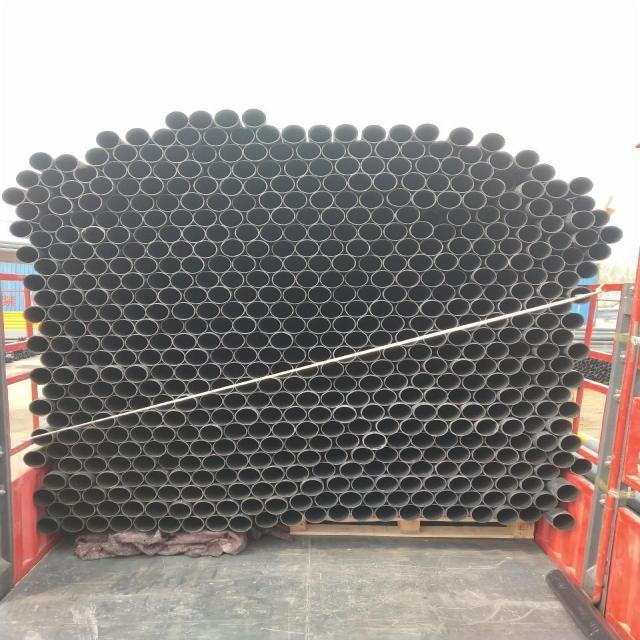pipe: (176, 158, 202, 178), (469, 160, 494, 180), (400, 140, 425, 160), (414, 122, 439, 142), (333, 122, 358, 142), (250, 480, 274, 500), (258, 222, 282, 242), (234, 222, 258, 242), (218, 208, 242, 228), (426, 172, 450, 192), (102, 160, 126, 180), (208, 316, 234, 334), (156, 286, 182, 304), (282, 254, 308, 272), (394, 238, 420, 256), (270, 207, 296, 225), (544, 180, 570, 198), (488, 150, 514, 168), (230, 160, 256, 178), (217, 144, 243, 162), (242, 142, 268, 160), (374, 140, 400, 158), (280, 124, 306, 142), (202, 127, 228, 145), (569, 285, 592, 305), (283, 222, 306, 242), (322, 172, 345, 192), (207, 160, 230, 180), (322, 141, 346, 160), (256, 125, 280, 144), (240, 109, 264, 128), (509, 400, 534, 418), (387, 402, 412, 420), (332, 405, 357, 423), (263, 497, 288, 515), (239, 497, 264, 515), (106, 486, 131, 504), (333, 374, 358, 392), (423, 357, 448, 375), (409, 314, 434, 332), (306, 316, 331, 334), (469, 298, 494, 316), (516, 224, 541, 242), (395, 205, 420, 223), (358, 189, 383, 207), (372, 172, 397, 190), (163, 144, 188, 162), (296, 142, 321, 160), (347, 140, 372, 158), (306, 124, 331, 142), (187, 110, 212, 128), (200, 454, 226, 471), (344, 269, 370, 286), (330, 254, 356, 271), (530, 163, 556, 180), (88, 177, 114, 194), (528, 240, 550, 260), (500, 190, 522, 210), (296, 206, 319, 225), (476, 204, 499, 223), (1, 187, 24, 206), (204, 514, 228, 532), (518, 504, 542, 522), (534, 493, 558, 511), (556, 484, 580, 502), (398, 446, 422, 464), (508, 433, 532, 451), (434, 430, 458, 448), (294, 420, 318, 438), (376, 417, 400, 435), (448, 418, 472, 436), (500, 418, 524, 436), (549, 418, 573, 436), (308, 406, 332, 424), (282, 405, 306, 423), (120, 500, 144, 518), (96, 500, 120, 518), (56, 487, 80, 505), (68, 472, 92, 490), (260, 435, 284, 453), (296, 390, 320, 408), (548, 386, 572, 404), (536, 369, 560, 387), (282, 375, 306, 393), (258, 376, 282, 394), (122, 364, 146, 382), (222, 361, 246, 379), (294, 360, 318, 378), (370, 358, 394, 376), (396, 358, 420, 376), (498, 357, 522, 375), (548, 355, 572, 373), (258, 346, 282, 364), (40, 350, 64, 368), (74, 334, 98, 352), (100, 334, 124, 352), (124, 334, 148, 352), (148, 332, 172, 350), (221, 330, 245, 348), (448, 328, 472, 346), (498, 326, 522, 344), (134, 318, 158, 336), (72, 304, 96, 322), (144, 302, 168, 320), (294, 300, 318, 318), (110, 288, 134, 306), (97, 272, 121, 290), (194, 270, 218, 288), (294, 269, 318, 287), (370, 270, 394, 288), (396, 269, 420, 287), (494, 268, 518, 286), (524, 266, 548, 284), (556, 270, 580, 288), (408, 253, 432, 271), (208, 254, 232, 272), (133, 256, 157, 274), (122, 240, 146, 258), (192, 240, 216, 258), (244, 239, 268, 257), (270, 239, 294, 257), (320, 238, 344, 256), (448, 237, 472, 255), (498, 237, 522, 255), (574, 228, 598, 246), (548, 232, 572, 250), (460, 222, 484, 240), (383, 222, 407, 240), (358, 222, 382, 240), (181, 224, 205, 242), (157, 225, 181, 243), (106, 225, 130, 243), (80, 225, 104, 243), (54, 225, 78, 243), (8, 220, 32, 238), (119, 210, 143, 228), (540, 214, 564, 232), (572, 210, 596, 228), (550, 198, 574, 216), (521, 180, 545, 198), (310, 191, 334, 209), (258, 191, 282, 209), (77, 193, 101, 211), (47, 196, 71, 214), (14, 202, 38, 220), (14, 170, 38, 188), (54, 154, 78, 172), (60, 179, 84, 197), (138, 176, 162, 194), (270, 175, 294, 193), (296, 175, 320, 193), (480, 132, 504, 150), (416, 155, 440, 173), (388, 156, 412, 174), (360, 156, 384, 174), (308, 158, 332, 176), (256, 160, 280, 178), (152, 161, 176, 179), (85, 147, 109, 165), (138, 144, 162, 162), (192, 145, 216, 163), (268, 142, 292, 160), (428, 140, 452, 158), (388, 124, 412, 142), (230, 126, 254, 144), (176, 126, 200, 144), (152, 127, 176, 145), (214, 109, 238, 127), (434, 489, 459, 506), (214, 500, 239, 517), (80, 427, 105, 444), (420, 300, 445, 317), (509, 282, 534, 299), (388, 187, 410, 206), (26, 184, 48, 203), (372, 388, 398, 404), (112, 350, 138, 366), (318, 270, 344, 286), (85, 515, 108, 533), (109, 514, 132, 532), (133, 514, 156, 532), (280, 508, 303, 526), (303, 506, 326, 524), (399, 503, 422, 521), (446, 504, 469, 522), (338, 490, 361, 508), (524, 447, 547, 465), (484, 430, 507, 448), (400, 418, 423, 436), (425, 418, 448, 436), (475, 418, 498, 436), (535, 400, 558, 418), (192, 500, 215, 518), (157, 484, 180, 502), (180, 484, 203, 502), (58, 456, 81, 474), (132, 454, 155, 472), (213, 438, 236, 456), (359, 374, 382, 392), (235, 376, 258, 394), (42, 382, 65, 400), (320, 360, 343, 378), (161, 348, 184, 366), (138, 348, 161, 366), (172, 332, 195, 350), (320, 330, 343, 348), (369, 330, 392, 348), (511, 311, 534, 329), (269, 300, 292, 318), (483, 283, 506, 301), (408, 284, 431, 302), (383, 284, 406, 302), (357, 284, 380, 302), (333, 284, 356, 302), (85, 288, 108, 306), (60, 289, 83, 307), (120, 272, 143, 290), (220, 270, 243, 288), (246, 269, 269, 287), (271, 270, 294, 288), (444, 268, 467, 286), (434, 252, 457, 270), (383, 254, 406, 272), (359, 254, 382, 272), (109, 256, 132, 274), (34, 258, 57, 276), (15, 245, 38, 263), (48, 242, 71, 260), (146, 240, 169, 258), (170, 240, 193, 258), (220, 238, 243, 256), (432, 223, 455, 241), (333, 222, 356, 240), (206, 224, 229, 242), (133, 225, 156, 243), (170, 209, 193, 227), (246, 207, 269, 225), (371, 206, 394, 224), (570, 176, 593, 194), (482, 178, 505, 196), (463, 190, 486, 208), (413, 190, 436, 208), (231, 193, 254, 211), (28, 152, 51, 170), (193, 176, 216, 194), (243, 177, 266, 195), (348, 172, 371, 190), (402, 172, 425, 190), (450, 174, 473, 192), (335, 156, 358, 174), (284, 159, 307, 177), (128, 160, 151, 178), (95, 130, 118, 148), (450, 127, 473, 145), (362, 124, 385, 142), (165, 111, 188, 129), (422, 446, 446, 463), (296, 449, 320, 466), (308, 435, 332, 452), (320, 419, 344, 436), (144, 501, 168, 518), (46, 501, 70, 518), (132, 485, 156, 502), (203, 484, 227, 501), (274, 480, 298, 497), (144, 469, 168, 486), (224, 452, 248, 469), (188, 439, 212, 456), (346, 389, 370, 406), (197, 363, 221, 380), (268, 362, 292, 379), (382, 344, 406, 361), (536, 312, 560, 329), (458, 313, 482, 330), (434, 314, 458, 331), (46, 304, 70, 321), (446, 298, 470, 315), (208, 286, 232, 303), (46, 274, 70, 291), (231, 255, 255, 272), (180, 255, 204, 272), (70, 242, 94, 259), (142, 210, 166, 227), (192, 209, 216, 226), (320, 207, 344, 224), (346, 207, 370, 224), (282, 191, 306, 208), (130, 194, 154, 211), (73, 165, 97, 182), (166, 177, 190, 194), (422, 476, 447, 492), (459, 432, 484, 448), (226, 483, 251, 499), (320, 391, 345, 407), (208, 348, 233, 364), (195, 333, 220, 349), (431, 284, 456, 300), (145, 272, 170, 288), (36, 517, 58, 535), (328, 504, 350, 522), (552, 512, 574, 530), (560, 434, 582, 452), (522, 416, 544, 434), (558, 400, 580, 418), (488, 402, 510, 420), (168, 502, 190, 520), (157, 452, 179, 470), (178, 454, 200, 472), (106, 426, 128, 444), (562, 370, 584, 388), (412, 372, 434, 390), (346, 360, 368, 378), (452, 358, 474, 376), (568, 342, 590, 360), (486, 340, 508, 358), (396, 328, 418, 346), (472, 326, 494, 344), (550, 328, 572, 346), (382, 314, 404, 332), (112, 318, 134, 336), (22, 306, 44, 324), (396, 299, 418, 317), (525, 296, 547, 314), (550, 296, 572, 314), (460, 282, 482, 300), (282, 286, 304, 304), (34, 289, 56, 307), (23, 273, 45, 291), (474, 267, 496, 285), (576, 260, 598, 278), (542, 254, 564, 272), (371, 238, 393, 256), (420, 238, 442, 256), (486, 222, 508, 240), (40, 214, 62, 232), (96, 210, 118, 228), (505, 210, 527, 228), (588, 209, 610, 227), (335, 190, 357, 208), (106, 194, 128, 212), (40, 168, 62, 186), (516, 150, 538, 168), (442, 157, 464, 175), (114, 143, 136, 161), (157, 516, 180, 533), (459, 489, 482, 506), (496, 447, 519, 464), (437, 404, 460, 421), (413, 404, 436, 421), (259, 407, 282, 424), (32, 489, 55, 506), (190, 469, 213, 486), (162, 409, 185, 426), (384, 374, 407, 391), (522, 357, 545, 374), (344, 329, 367, 346), (345, 299, 368, 316), (421, 269, 444, 286), (458, 253, 481, 270), (346, 239, 369, 256), (473, 238, 496, 255), (409, 221, 432, 238), (308, 223, 331, 240), (116, 178, 139, 195), (459, 145, 482, 162), (346, 419, 372, 434), (60, 516, 84, 532), (228, 516, 252, 532), (254, 511, 278, 527), (482, 491, 506, 507), (386, 490, 410, 506), (313, 492, 337, 508), (520, 476, 544, 492), (350, 476, 374, 492), (446, 446, 470, 462), (374, 446, 398, 462), (311, 462, 335, 478), (386, 432, 410, 448), (362, 433, 386, 449), (284, 436, 308, 452), (360, 404, 384, 420), (71, 501, 95, 517), (80, 488, 104, 504), (260, 466, 284, 482), (107, 456, 131, 472), (248, 452, 272, 468), (70, 442, 94, 458), (46, 442, 70, 458), (56, 428, 80, 444), (234, 408, 258, 424), (45, 412, 69, 428), (55, 397, 79, 413), (508, 372, 532, 388), (308, 376, 332, 392), (186, 378, 210, 394), (90, 381, 114, 397), (66, 382, 90, 398), (28, 368, 52, 384), (173, 364, 197, 380), (246, 362, 270, 378), (356, 346, 380, 362), (308, 346, 332, 362), (282, 347, 306, 363), (184, 348, 208, 364), (24, 336, 48, 352), (48, 336, 72, 352), (268, 332, 292, 348), (294, 332, 318, 348), (524, 328, 548, 344), (332, 316, 356, 332), (257, 316, 281, 332), (184, 318, 208, 334), (160, 318, 184, 334), (38, 320, 62, 336), (122, 304, 146, 320), (196, 302, 220, 318), (221, 302, 245, 318), (318, 301, 342, 317), (234, 286, 258, 302), (183, 287, 207, 303), (169, 272, 193, 288), (484, 252, 508, 268), (258, 256, 282, 272), (158, 256, 182, 272), (295, 240, 319, 256), (218, 178, 242, 194), (125, 128, 149, 144), (497, 508, 518, 526), (31, 428, 52, 446), (308, 255, 329, 273), (85, 258, 106, 276), (41, 474, 66, 489), (436, 344, 461, 359), (422, 504, 444, 521), (472, 446, 494, 463), (462, 404, 484, 421), (142, 440, 164, 457), (486, 372, 508, 389), (462, 373, 484, 390), (64, 320, 86, 337), (370, 300, 392, 317), (308, 286, 330, 303), (448, 208, 470, 225), (530, 198, 552, 215), (156, 193, 178, 210), (375, 506, 398, 522), (509, 492, 532, 508), (363, 490, 386, 506), (289, 494, 312, 510), (471, 474, 494, 490), (448, 476, 471, 492), (399, 476, 422, 492), (375, 476, 398, 492), (326, 476, 349, 492), (300, 480, 323, 496), (411, 432, 434, 448), (214, 468, 237, 484), (95, 472, 118, 488), (236, 437, 259, 453), (223, 422, 246, 438), (210, 408, 233, 424), (140, 410, 163, 426), (424, 388, 447, 404), (473, 388, 496, 404), (523, 386, 546, 402), (163, 379, 186, 395), (99, 367, 122, 383), (150, 364, 173, 380), (408, 343, 431, 359), (90, 350, 113, 366), (246, 332, 269, 348), (423, 330, 446, 346), (281, 316, 304, 332), (232, 316, 255, 332), (87, 320, 110, 336), (98, 304, 121, 320), (498, 298, 521, 314), (258, 286, 281, 302), (134, 288, 157, 304), (536, 464, 560, 479), (120, 471, 144, 486), (82, 457, 106, 472), (22, 451, 46, 466), (234, 347, 258, 362), (64, 351, 88, 366), (553, 451, 574, 468), (536, 434, 557, 451), (167, 439, 188, 456), (182, 516, 204, 532), (351, 504, 373, 520), (470, 506, 492, 522), (496, 476, 518, 492), (570, 458, 592, 474), (352, 448, 374, 464), (324, 448, 346, 464), (336, 432, 358, 448), (273, 450, 295, 466), (118, 442, 140, 458), (96, 440, 118, 456), (130, 426, 152, 442), (153, 426, 175, 442), (187, 409, 209, 425), (80, 396, 102, 412), (448, 388, 470, 404), (438, 373, 460, 389), (211, 378, 233, 394), (52, 368, 74, 384), (474, 358, 496, 374), (536, 343, 558, 359), (463, 343, 485, 359), (334, 346, 356, 362), (562, 312, 584, 328), (486, 312, 508, 328), (172, 302, 194, 318), (247, 302, 269, 318), (540, 282, 562, 298), (74, 274, 96, 290), (62, 258, 84, 274), (96, 242, 118, 258), (562, 248, 584, 264), (588, 243, 610, 259), (600, 226, 622, 242), (420, 209, 442, 225), (438, 191, 460, 207), (410, 491, 433, 506), (237, 468, 260, 483), (168, 471, 191, 486), (399, 387, 422, 402), (499, 389, 522, 404), (137, 380, 160, 395), (113, 381, 136, 396), (208, 193, 228, 210), (28, 398, 49, 414), (74, 368, 98, 382), (508, 254, 532, 268), (70, 212, 94, 226), (572, 196, 596, 210), (507, 341, 529, 356), (285, 466, 308, 480), (104, 396, 127, 410), (29, 232, 52, 246), (180, 194, 203, 208), (94, 412, 114, 428), (72, 412, 92, 428), (118, 411, 139, 426), (176, 426, 198, 440), (200, 426, 222, 440), (248, 422, 270, 436), (272, 422, 294, 436), (128, 396, 150, 410), (200, 394, 222, 408), (246, 393, 268, 407), (272, 392, 294, 406), (356, 316, 378, 330), (154, 395, 174, 410), (224, 393, 244, 407), (176, 396, 196, 409)
